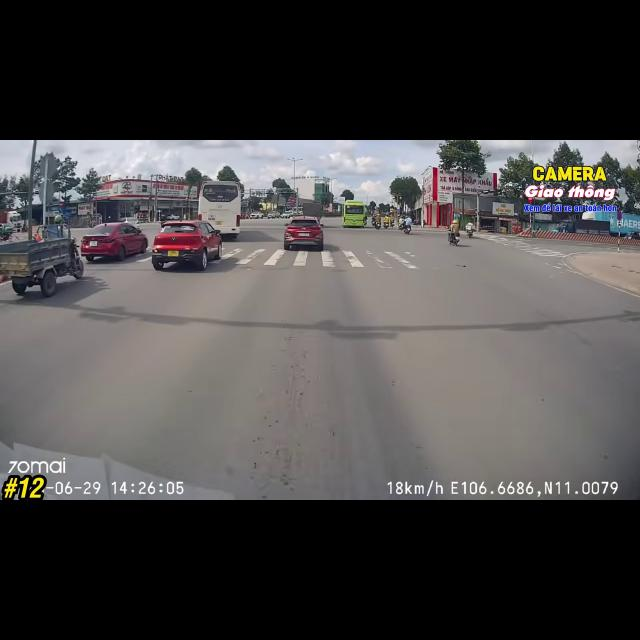bus: (198, 181, 241, 238), (342, 200, 365, 227)
car: (152, 220, 222, 270), (81, 223, 148, 261), (284, 217, 323, 250), (124, 218, 139, 227), (268, 211, 280, 219), (166, 214, 180, 220), (250, 212, 263, 218), (281, 211, 291, 218)
motorcycle: (448, 232, 459, 245), (403, 226, 411, 234), (398, 222, 404, 230), (467, 230, 473, 237), (375, 222, 380, 229), (384, 222, 388, 228)
truck: (0, 225, 83, 297), (582, 212, 639, 236), (554, 219, 610, 236), (343, 200, 365, 227), (0, 209, 24, 231), (302, 202, 322, 220)
